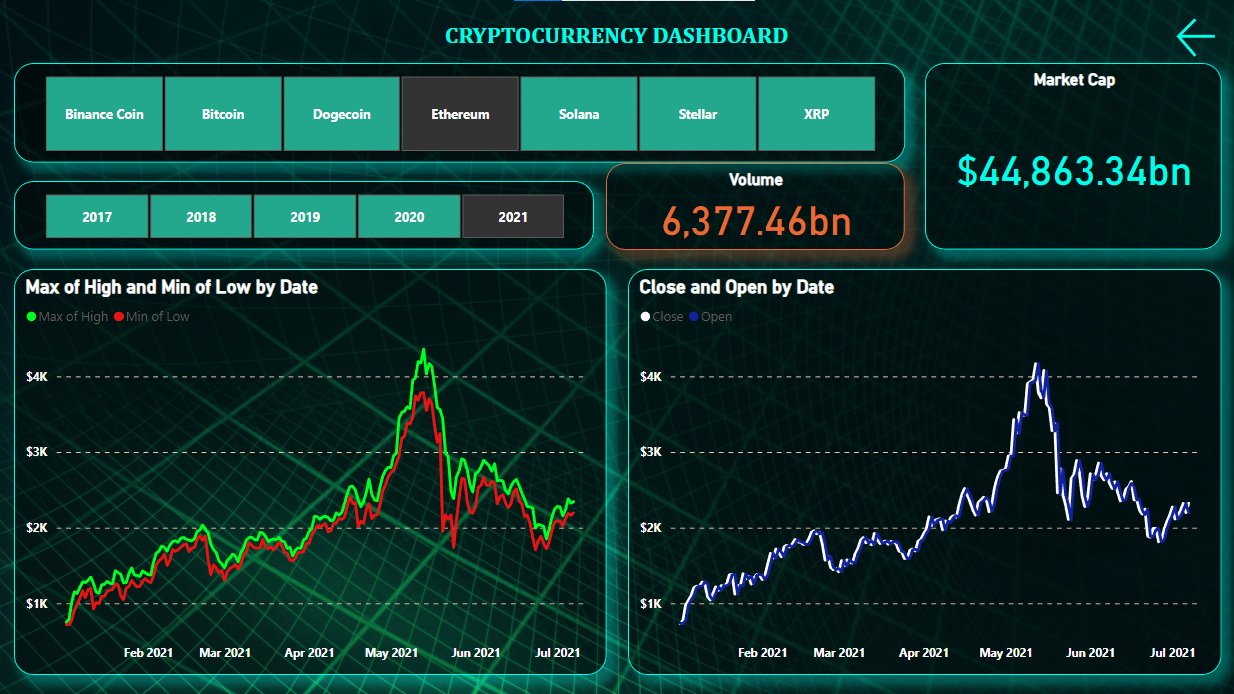

This screenshot's page, from the dashboard's own definition file:
{"tool":"powerbi","page":{"name":"Page 2","canvas":[1280,720],"ordinal":1},"visuals":[{"type":"slicer","fields":{"Values":["CryptoData.Name"]},"box":[15.3,65.3,921.5,102.9],"z":0},{"type":"slicer","fields":{"Values":["CryptoData.Year"]},"box":[15.3,187.6,600.5,70.9],"z":1000},{"type":"actionButton","box":[1213.4,13.9,54.2,51.4],"z":2000},{"type":"textbox","box":[385,16.7,508.7,48.6],"z":3000},{"type":"lineChart","fields":{"Category":["CryptoData.Date"],"Y":["Max(CryptoData.High)","Min(CryptoData.Low)"]},"box":[15.3,278,613,419.8],"z":3001},{"type":"lineChart","fields":{"Category":["CryptoData.Date"],"Y":["Sum(CryptoData.Close)","Sum(CryptoData.Open)"]},"box":[650.5,278,614.4,419.8],"z":3002},{"type":"card","title":"Volume","fields":{"Values":["Sum(CryptoData.Volume)"]},"box":[628.3,168.2,308.6,90.3],"z":3003},{"type":"card","title":"Market Cap","fields":{"Values":["Sum(CryptoData.Marketcap)"]},"box":[957.7,65.3,307.2,193.2],"z":3004}]}

Visuals, with their boxes in screenshot pixels (x1, y1, x2, y2), scaled from the page's 1280x720 canvas onto the 1234x694 screenshot:
slicer - CryptoData.Name: pyautogui.locateOnScreen(15, 63, 903, 162)
slicer - CryptoData.Year: pyautogui.locateOnScreen(15, 181, 594, 249)
actionButton: pyautogui.locateOnScreen(1170, 13, 1222, 63)
textbox: pyautogui.locateOnScreen(371, 16, 862, 63)
lineChart - CryptoData.Date x Max(CryptoData.High): pyautogui.locateOnScreen(15, 268, 606, 673)
lineChart - CryptoData.Date x Sum(CryptoData.Close): pyautogui.locateOnScreen(627, 268, 1219, 673)
"Volume" card: pyautogui.locateOnScreen(606, 162, 903, 249)
"Market Cap" card: pyautogui.locateOnScreen(923, 63, 1219, 249)
